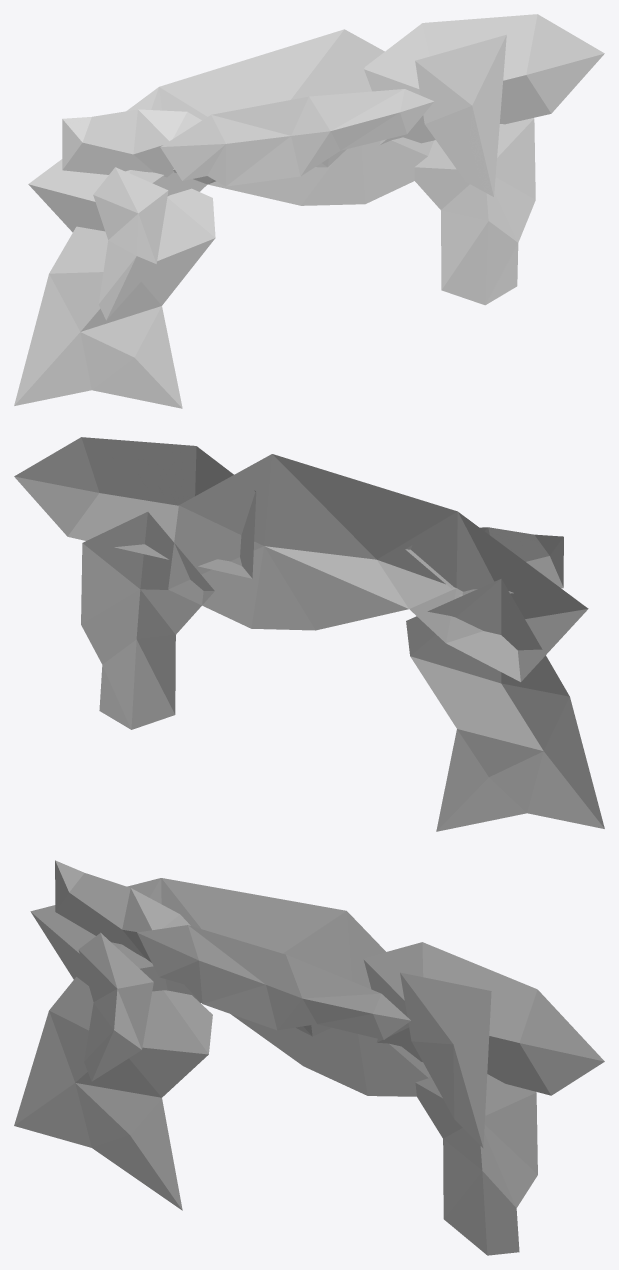
Rendered from SM_Env_Ivy_Flowers_09.glb.
The picture shows the model from 3 angles, top to bottom: view 1: azimuth 30°, elevation 25°; view 2: azimuth 150°, elevation 25°; view 3: azimuth 330°, elevation 25°; orthographic projection.
Visible parts, largest first — view 1: SM_Env_Ivy_Flowers_09; view 2: SM_Env_Ivy_Flowers_09; view 3: SM_Env_Ivy_Flowers_09.
Boxes of the visible parts, box(x1,y1,x2,y2) form: SM_Env_Ivy_Flowers_09: box(14, 14, 604, 408); SM_Env_Ivy_Flowers_09: box(14, 437, 604, 831); SM_Env_Ivy_Flowers_09: box(14, 860, 604, 1255).
Bounding box in the file's own units: 3.05 × 1.67 × 0.1357.
1 material, 1 textured.
